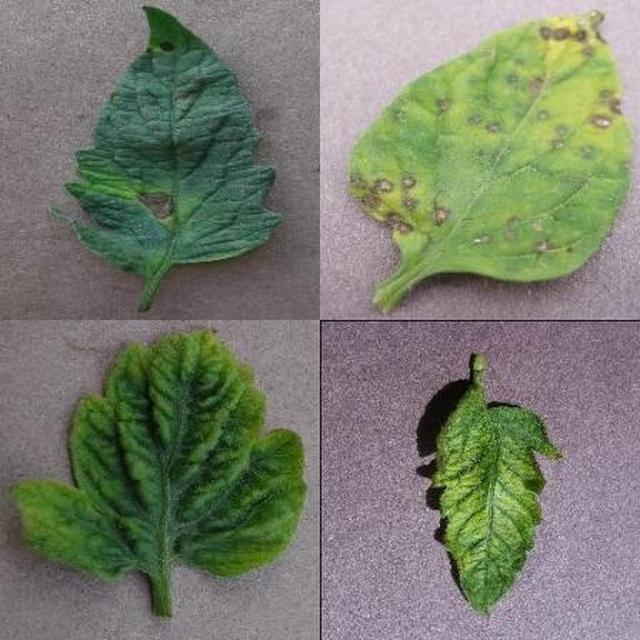Early Blight Leaf: (188, 198, 640, 640)
